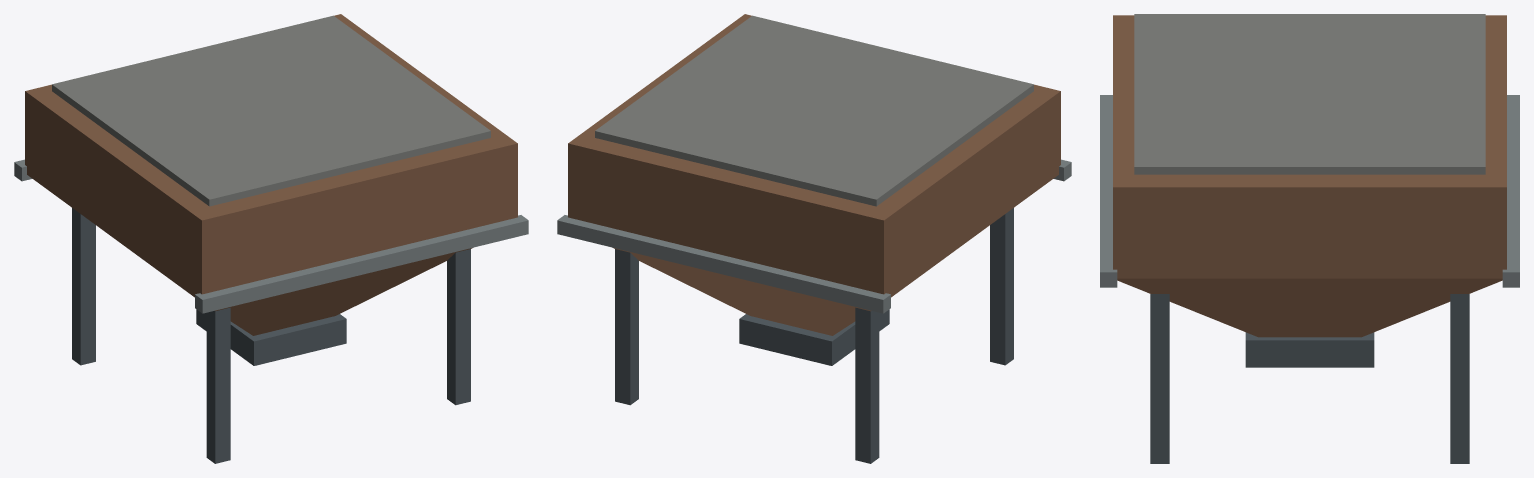
Rendered from hopper.glb.
The picture shows the model from 3 angles, left to right: view 1: azimuth 30°, elevation 25°; view 2: azimuth 150°, elevation 25°; view 3: azimuth 270°, elevation 25°; orthographic projection. The views are drawn at different scales.
Visible parts, largest first — view 1: hopper; view 2: hopper; view 3: hopper.
Boxes of the visible parts, <box> form: hopper: <box>14,14,528,463</box>; hopper: <box>557,14,1071,463</box>; hopper: <box>1100,14,1519,463</box>.
Size of the model in its own units: 2.88 by 2.3 by 2.88.
